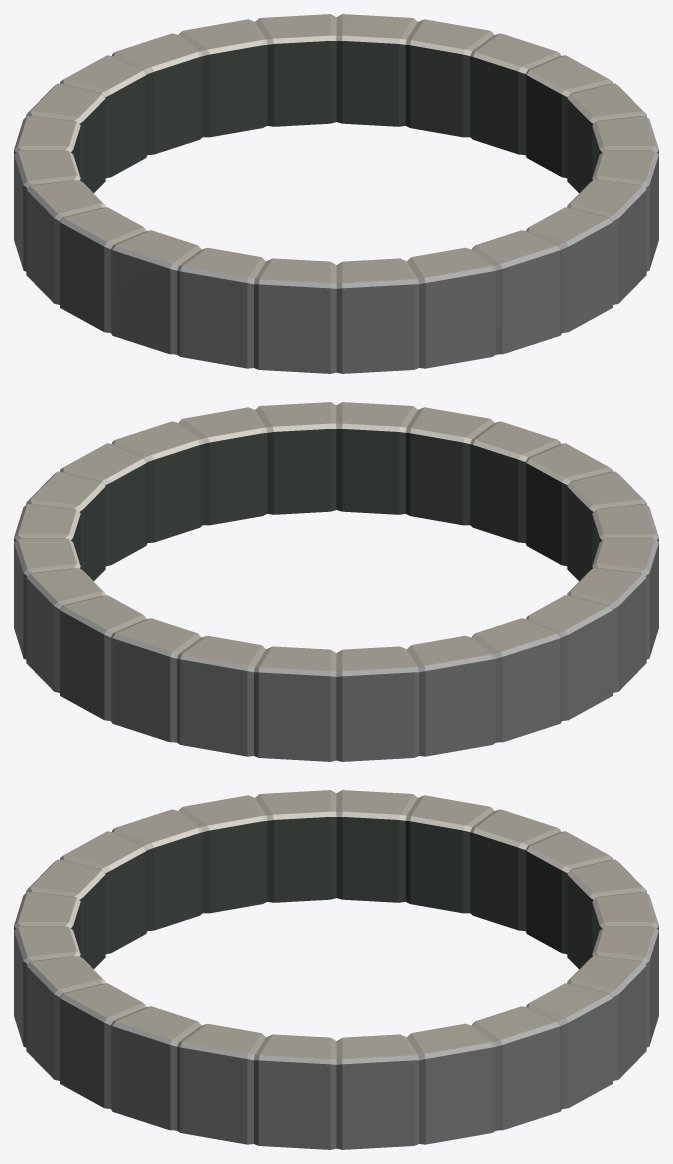
Rendered from poolcolider.fbx.
The picture shows the model from 3 angles, top to bottom: view 1: azimuth 30°, elevation 25°; view 2: azimuth 150°, elevation 25°; view 3: azimuth 270°, elevation 25°; orthographic projection.
Parts seen in each view (by area): view 1: Cylinder.004; view 2: Cylinder.004; view 3: Cylinder.004.
Part boxes in pixels (x1,y1,x2,y2): Cylinder.004: (14, 14, 658, 373); Cylinder.004: (14, 402, 658, 761); Cylinder.004: (14, 790, 658, 1149).
Size of the model in its own units: 841 by 128 by 841.
